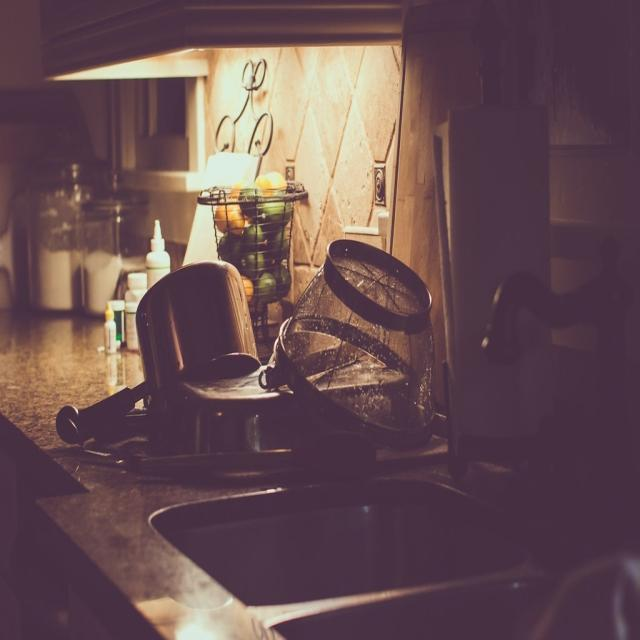Metal: (41, 251, 433, 467)
